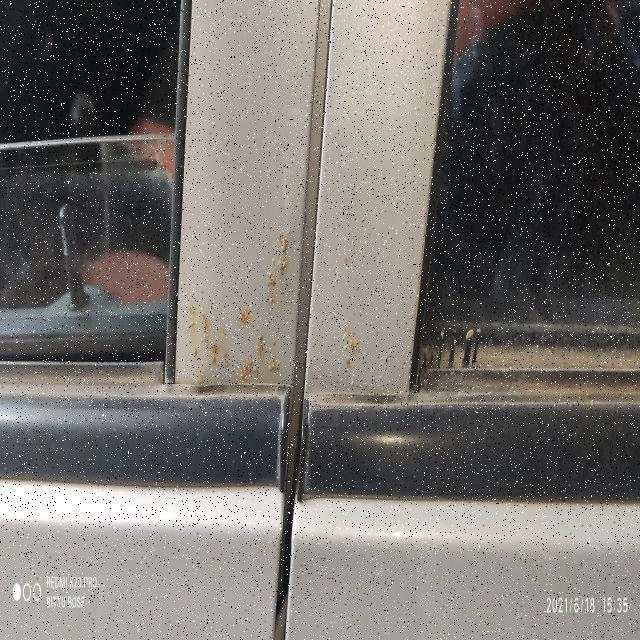pillar-dent: (304, 3, 458, 404), (176, 0, 302, 401)
